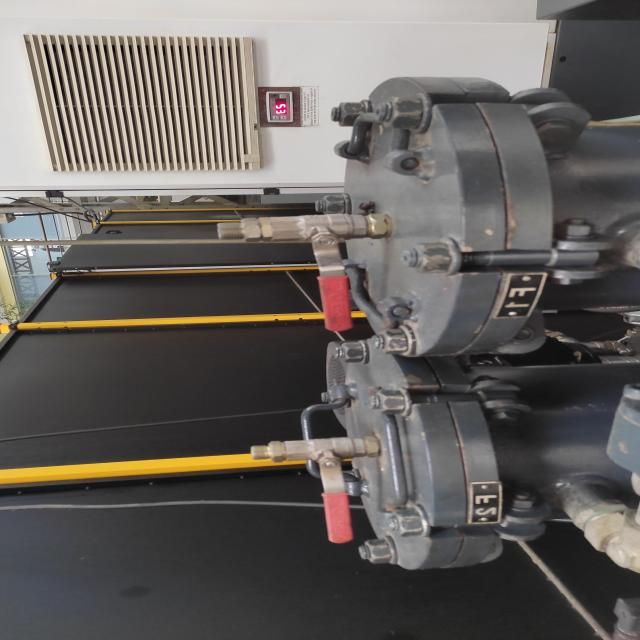closed_valve: (256, 213, 366, 335), (282, 435, 371, 545)
